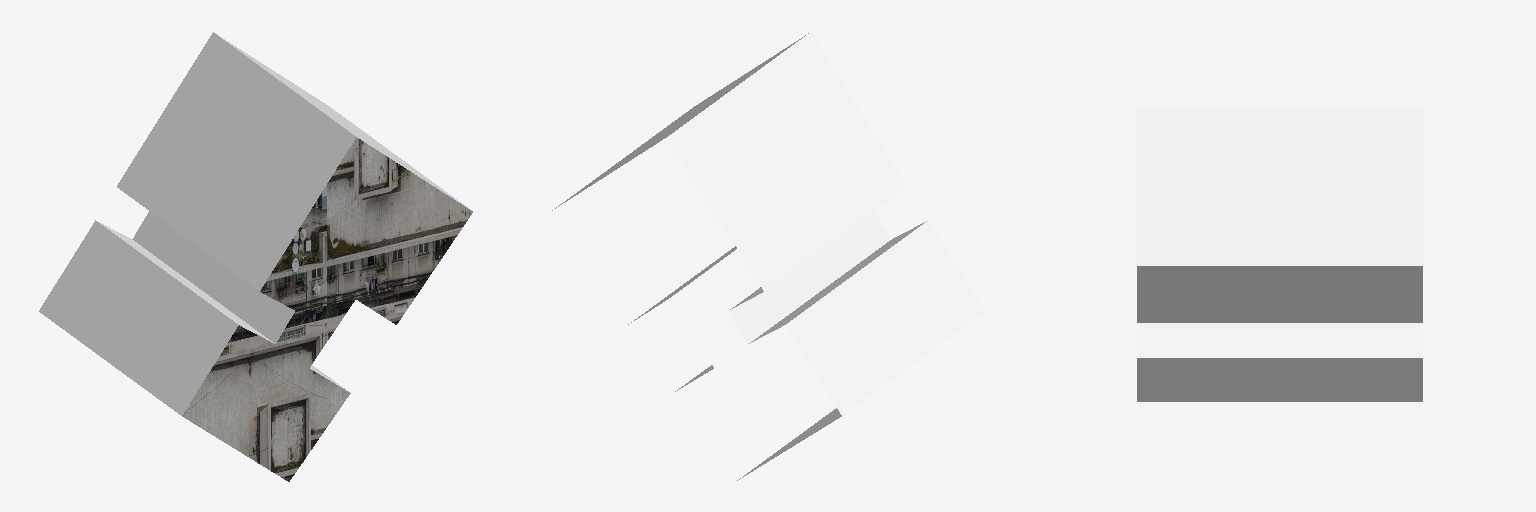
3 views of the same model, side by side, from view 1: azimuth 30°, elevation 25°; view 2: azimuth 150°, elevation 25°; view 3: azimuth 270°, elevation 25° (orthographic).
Visible parts, largest first — view 1: Building; view 2: Building; view 3: Building.
Part boxes in pixels (bbox=[...]): Building: bbox=[39, 32, 472, 481]; Building: bbox=[551, 32, 984, 481]; Building: bbox=[1137, 106, 1422, 401].
Bounding box in the file's own units: 10.58 × 11.4 × 9.
Materials: 2 (1 with a texture image).